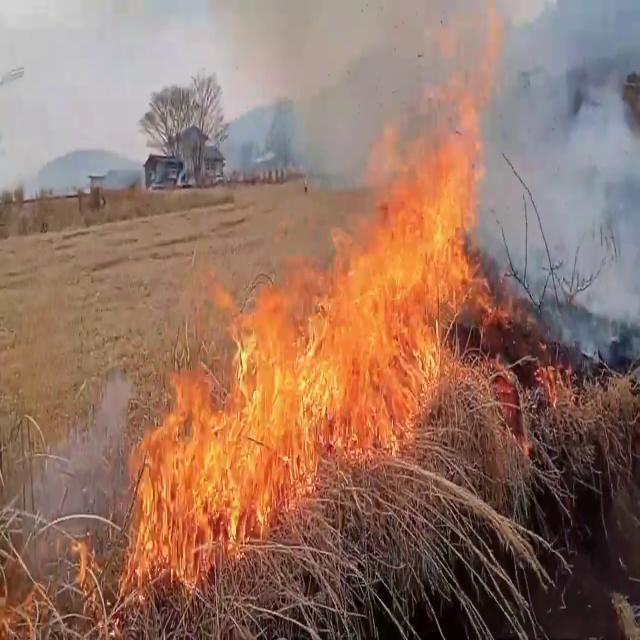Fire: (315, 99, 514, 452), (128, 284, 316, 580)
Smoke: (216, 0, 638, 259), (458, 1, 640, 326)
